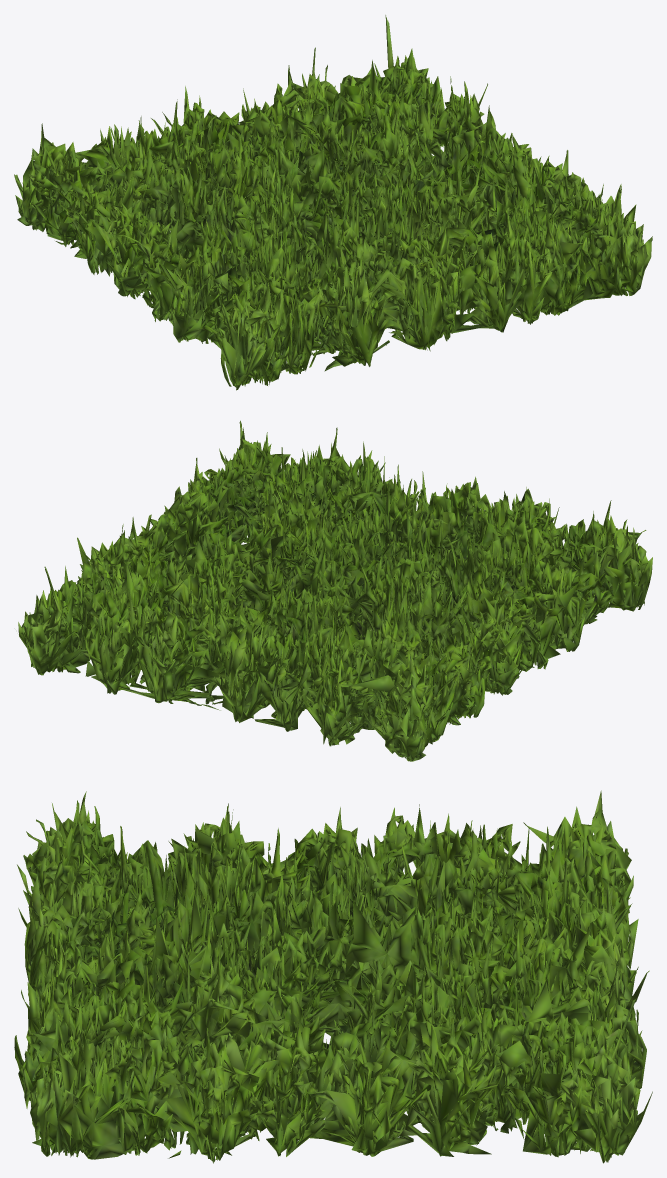
Rendered from Meshy_AI_Verdant_Symmetry_1115233346_texture.glb.
The picture shows the model from 3 angles, top to bottom: view 1: azimuth 30°, elevation 25°; view 2: azimuth 150°, elevation 25°; view 3: azimuth 270°, elevation 25°; orthographic projection. The views are drawn at different scales.
Size of the model in its own units: 1.93 by 0.5145 by 1.95.
1 material, 1 textured.
